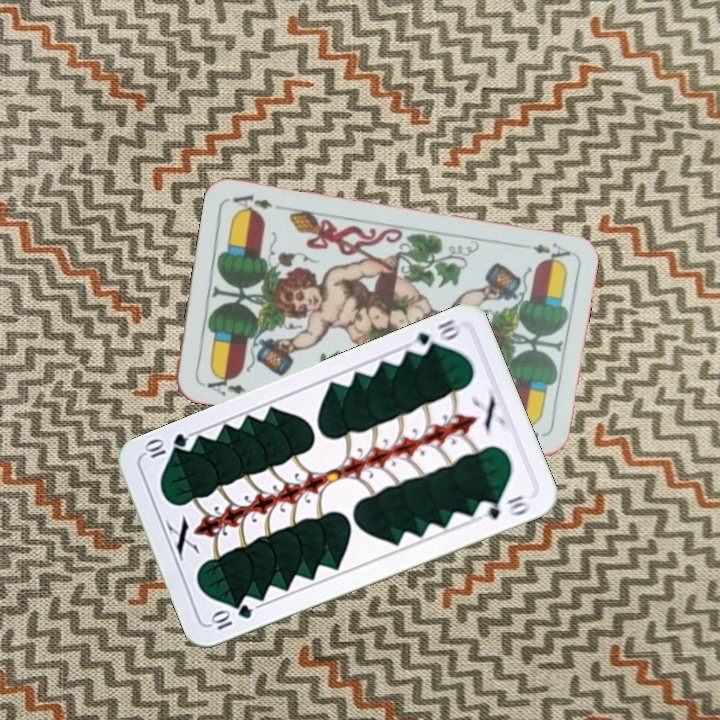EA: (515, 238, 573, 267), (198, 370, 248, 399)
G10: (409, 315, 465, 358), (207, 600, 255, 633)
